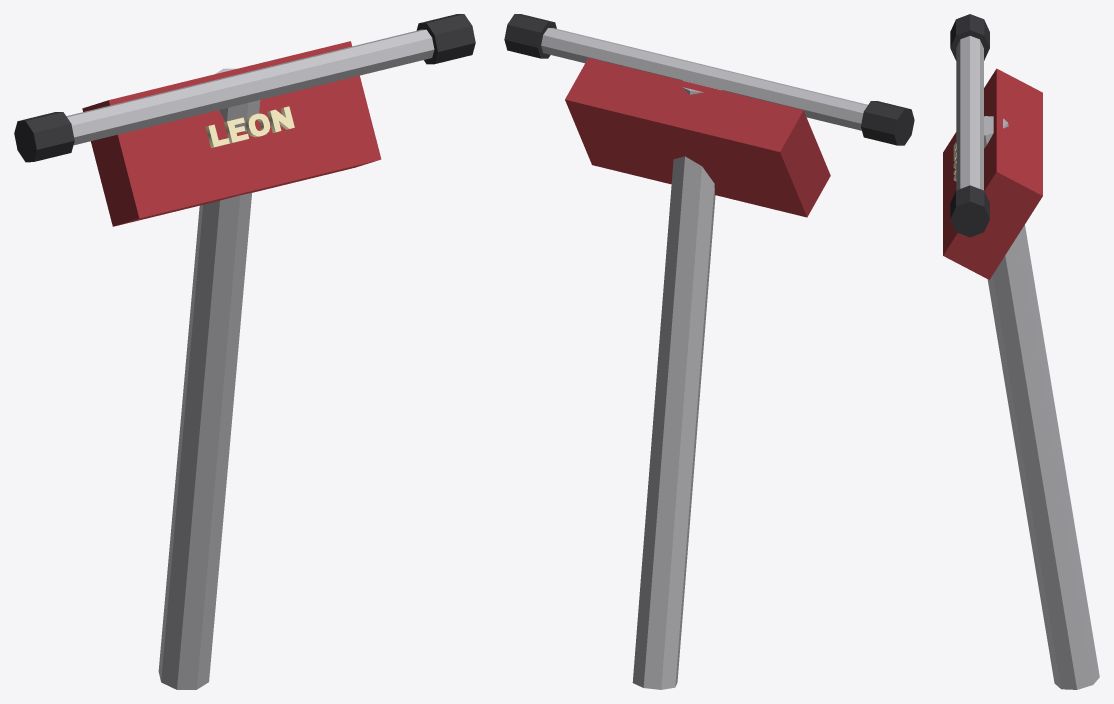
Rendered from scooter_bar.glb.
3 renders of one model, left to right at view 1: azimuth 30°, elevation 25°; view 2: azimuth 150°, elevation 25°; view 3: azimuth 270°, elevation 25°, orthographic. The views are drawn at different scales.
Visible parts, largest first — view 1: Lenker; view 2: Lenker; view 3: Lenker.
Part boxes in pixels (x1,y1,x2,y2): Lenker: [14, 14, 475, 689]; Lenker: [504, 14, 914, 689]; Lenker: [943, 14, 1099, 689].
Size of the model in its own units: 0.58 by 0.8305 by 0.205.
